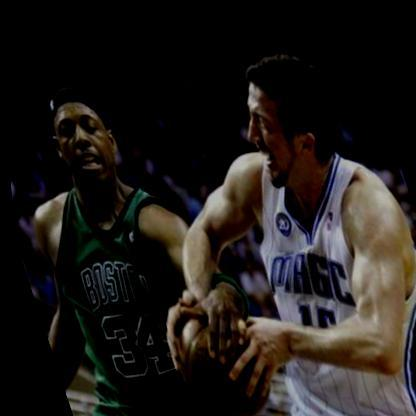basketball: (154, 285, 282, 416)
